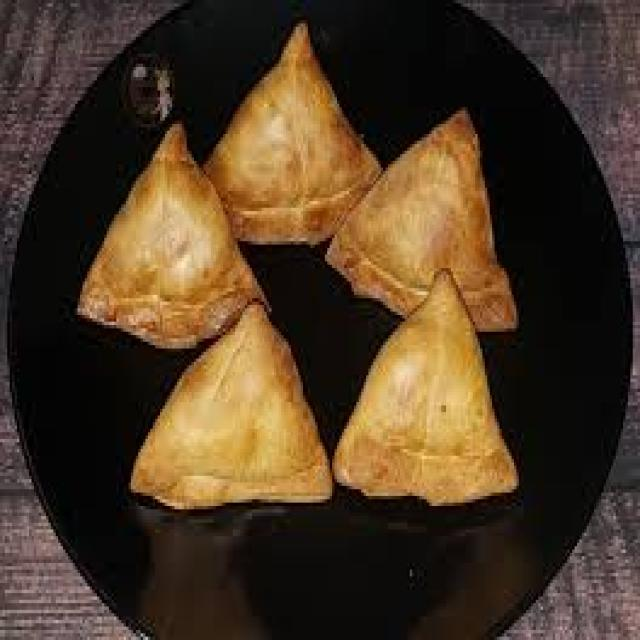SAMOSA: (325, 107, 516, 328), (335, 271, 516, 503), (78, 124, 267, 345), (131, 302, 332, 506), (204, 20, 378, 241)
